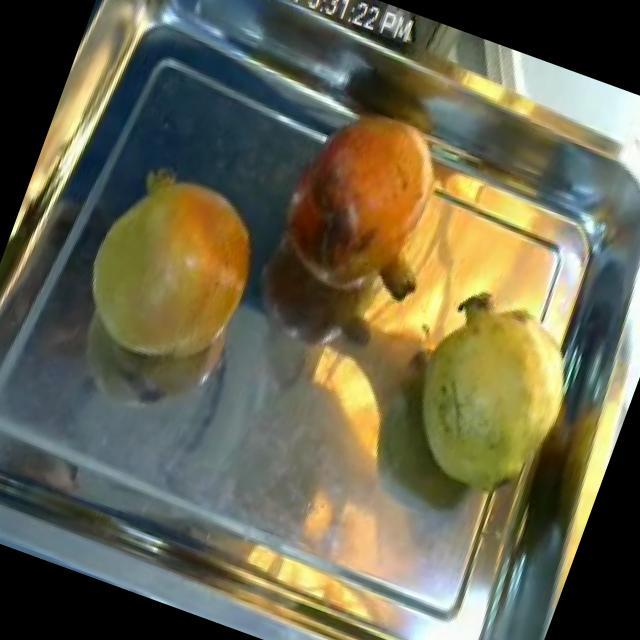fruit: (368, 261, 607, 522), (54, 142, 293, 402), (251, 82, 474, 332)
